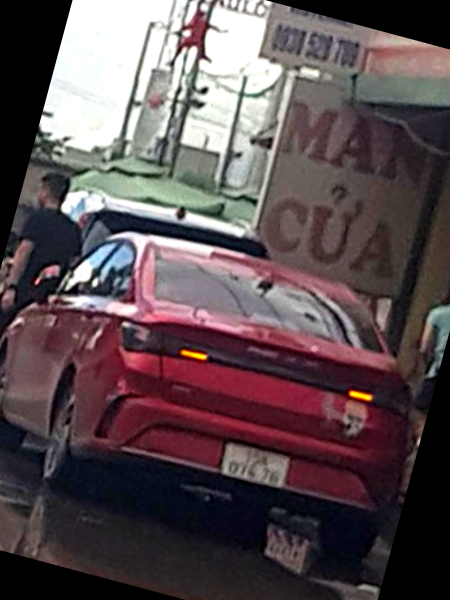lisence: (218, 441, 292, 488)
